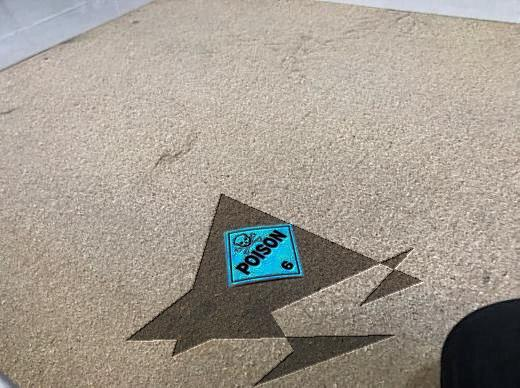poison: (223, 222, 307, 287)
